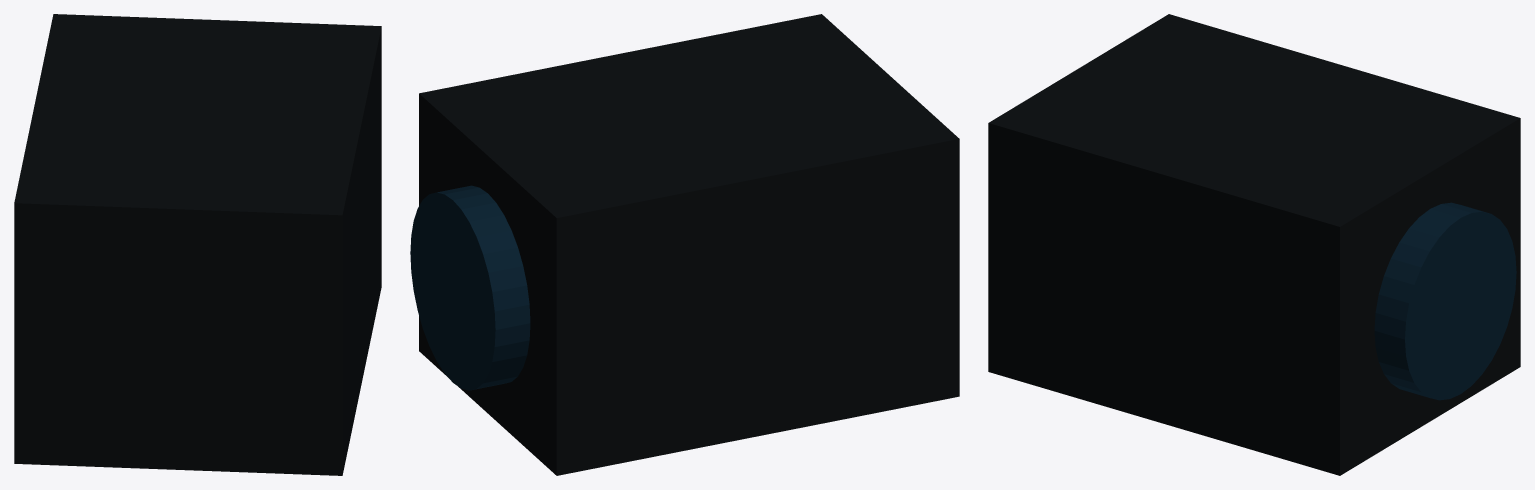
The model's file is sensor_CAM_FRONT_LEFT.dae.
3 views of the same model, side by side, from view 1: azimuth 30°, elevation 25°; view 2: azimuth 150°, elevation 25°; view 3: azimuth 270°, elevation 25° (orthographic). The views are drawn at different scales.
Visible parts, largest first — view 1: node; view 2: node; view 3: node.
Part boxes in pixels (x1,y1,x2,y2): node: [14, 14, 381, 475]; node: [410, 14, 959, 475]; node: [988, 14, 1520, 475].
Size of the model in its own units: 0.0881 by 0.093 by 0.048.
